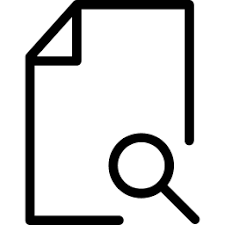searchIcon: (108, 132, 199, 225)
